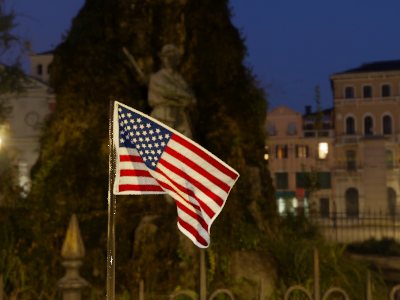America flag: (113, 98, 240, 248)
